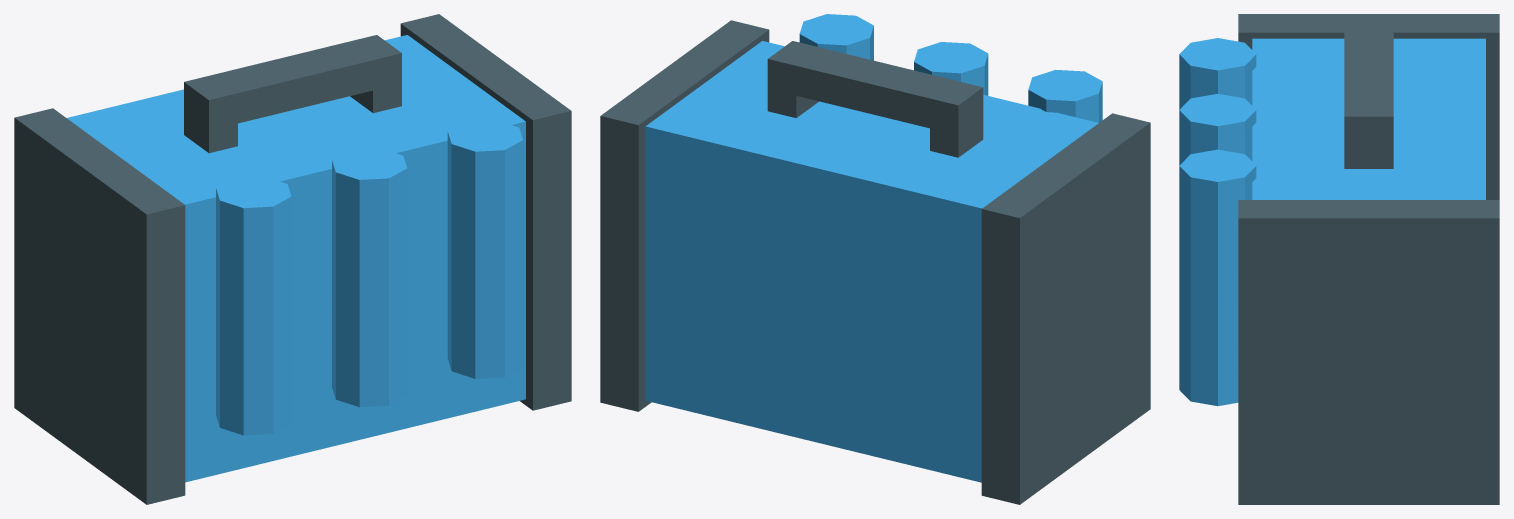
Rendered from pickup-laser.glb.
3 views of the same model, side by side, from view 1: azimuth 30°, elevation 25°; view 2: azimuth 150°, elevation 25°; view 3: azimuth 270°, elevation 25° (orthographic).
Parts seen in each view (by area): view 1: Case, Corner protection, Cylinder.002, Corner protection.001, Cylinder, Cylinder.001, Handle, Handle foot, Handle foot.001; view 2: Case, Corner protection, Corner protection.001, Handle, Cylinder, Cylinder.001, Cylinder.002, Handle foot, Handle foot.001; view 3: Corner protection.001, Case, Cylinder.002, Corner protection, Handle, Cylinder.001, Cylinder, Handle foot.001.
Part boxes in pixels (x1,y1,x2,y2): Case: (67,35,525,482); Corner protection: (14,108,185,504); Cylinder.002: (447,120,523,378); Corner protection.001: (400,14,571,410); Cylinder: (216,176,291,435); Cylinder.001: (332,148,407,407); Handle: (184,35,401,130); Handle foot: (184,91,237,153); Handle foot.001: (350,62,401,113); Case: (645,41,1098,482); Corner protection: (981,113,1150,504); Corner protection.001: (600,20,769,411); Handle: (767,41,983,135); Cylinder: (1028,69,1102,122); Cylinder.001: (914,42,988,95); Cylinder.002: (799,14,873,60); Handle foot: (930,98,983,157); Handle foot.001: (767,68,818,118); Corner protection.001: (1238,200,1499,504); Case: (1252,38,1485,199); Cylinder.002: (1179,149,1256,406); Corner protection: (1238,14,1499,199); Handle: (1344,23,1393,146); Cylinder.001: (1179,93,1256,165); Cylinder: (1179,38,1256,109); Handle foot.001: (1344,125,1393,168).
Bounding box in the file's own units: 1.76 × 1.33 × 1.17.
